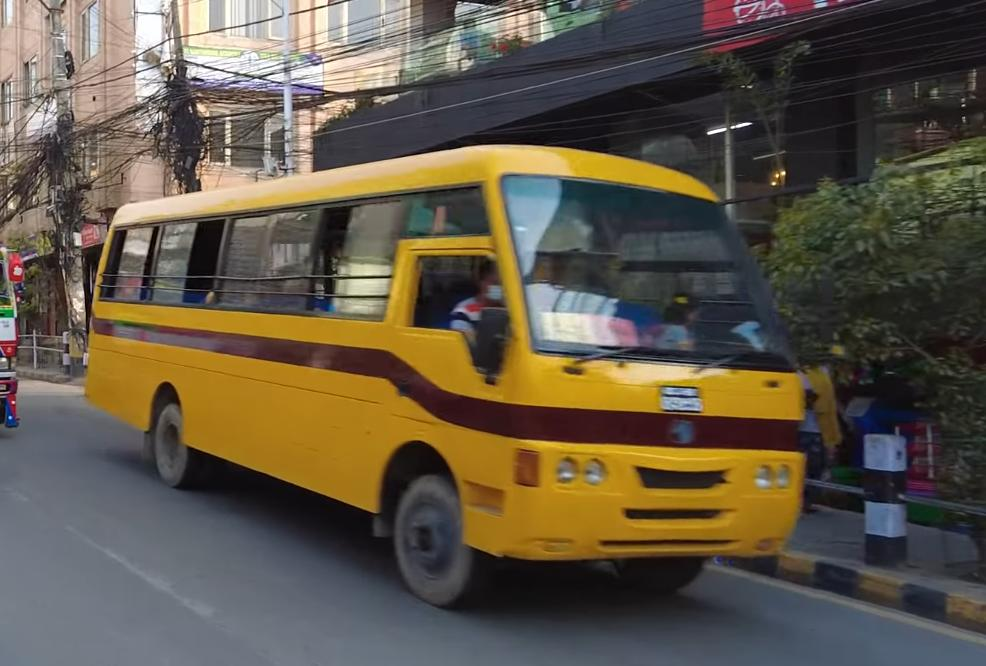school_bus: (72, 140, 818, 626)
